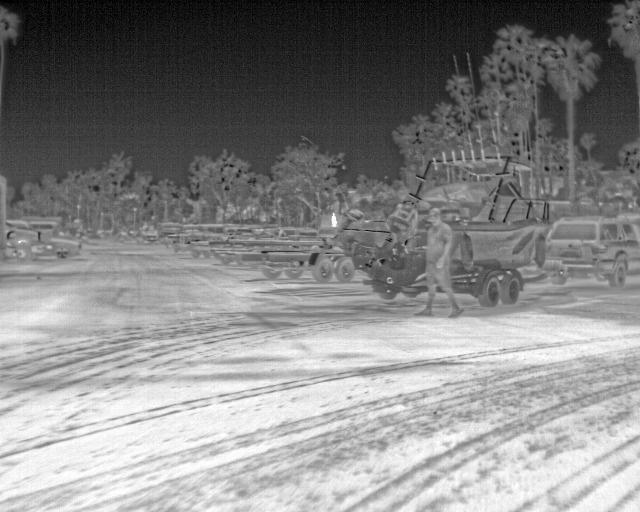bicycle: (544, 217, 637, 287), (52, 237, 84, 260)
empty: (413, 207, 465, 316)
